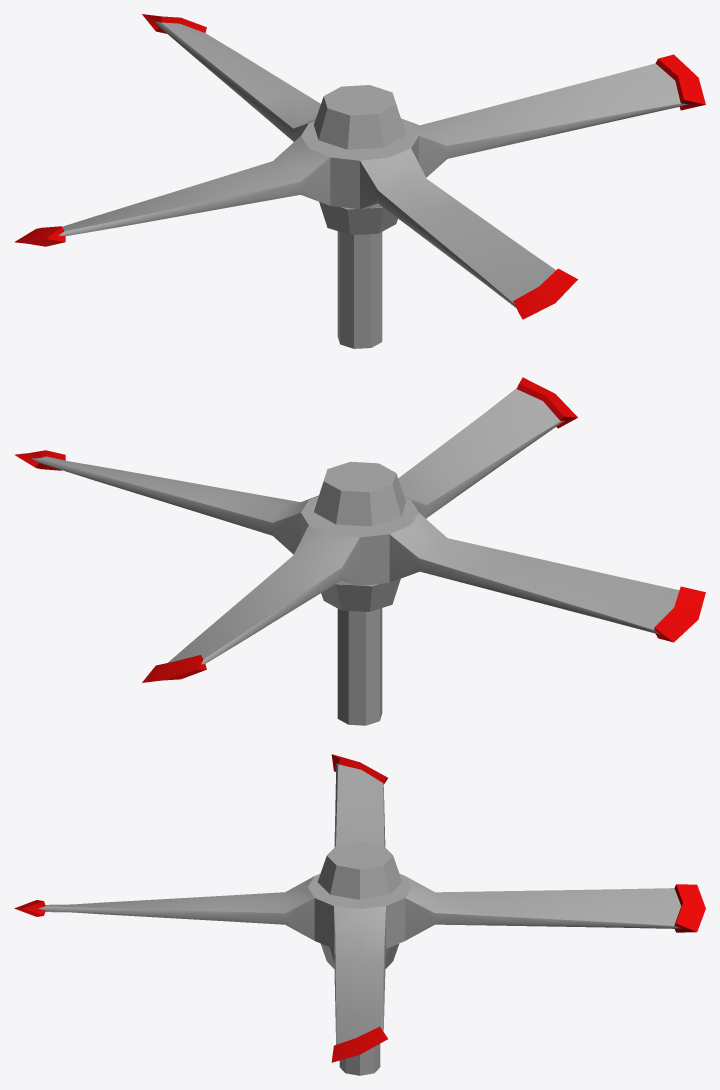
The model's file is Enemy_TurretFlying_Rotor.fbx.
3 renders of one model, top to bottom at view 1: azimuth 30°, elevation 25°; view 2: azimuth 150°, elevation 25°; view 3: azimuth 270°, elevation 25°, orthographic. The views are drawn at different scales.
Parts seen in each view (by area): view 1: Enemy_Turret_Flying_Rotor; view 2: Enemy_Turret_Flying_Rotor; view 3: Enemy_Turret_Flying_Rotor.
Part boxes in pixels (bbox=[...]): Enemy_Turret_Flying_Rotor: bbox=[14, 14, 705, 348]; Enemy_Turret_Flying_Rotor: bbox=[14, 377, 705, 725]; Enemy_Turret_Flying_Rotor: bbox=[14, 754, 705, 1075].
Bounding box in the file's own units: 3.85 × 1.3 × 3.85.
